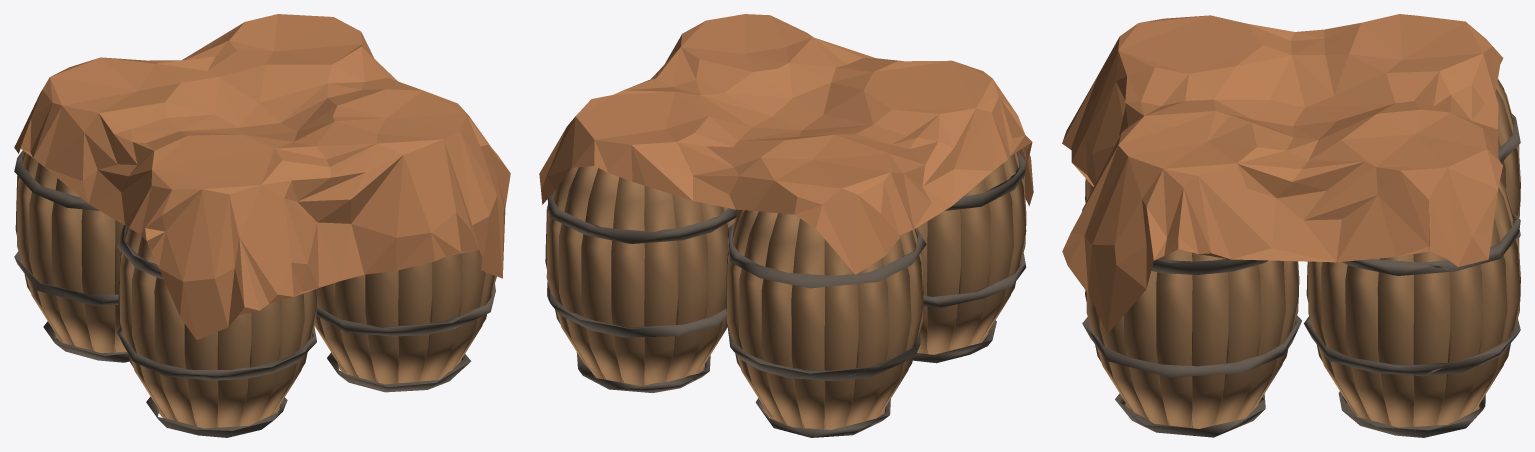
The model's file is barrel_group.glb.
The picture shows the model from 3 angles, left to right: view 1: azimuth 30°, elevation 25°; view 2: azimuth 150°, elevation 25°; view 3: azimuth 270°, elevation 25°; orthographic projection. The views are drawn at different scales.
Parts seen in each view (by area): view 1: barrel_group; view 2: barrel_group; view 3: barrel_group.
Part boxes in pixels (<box>): barrel_group: <box>14,14,510,437</box>; barrel_group: <box>539,14,1033,437</box>; barrel_group: <box>1062,14,1520,437</box>.
Bounding box in the file's own units: 2.01 × 1.33 × 2.04.
